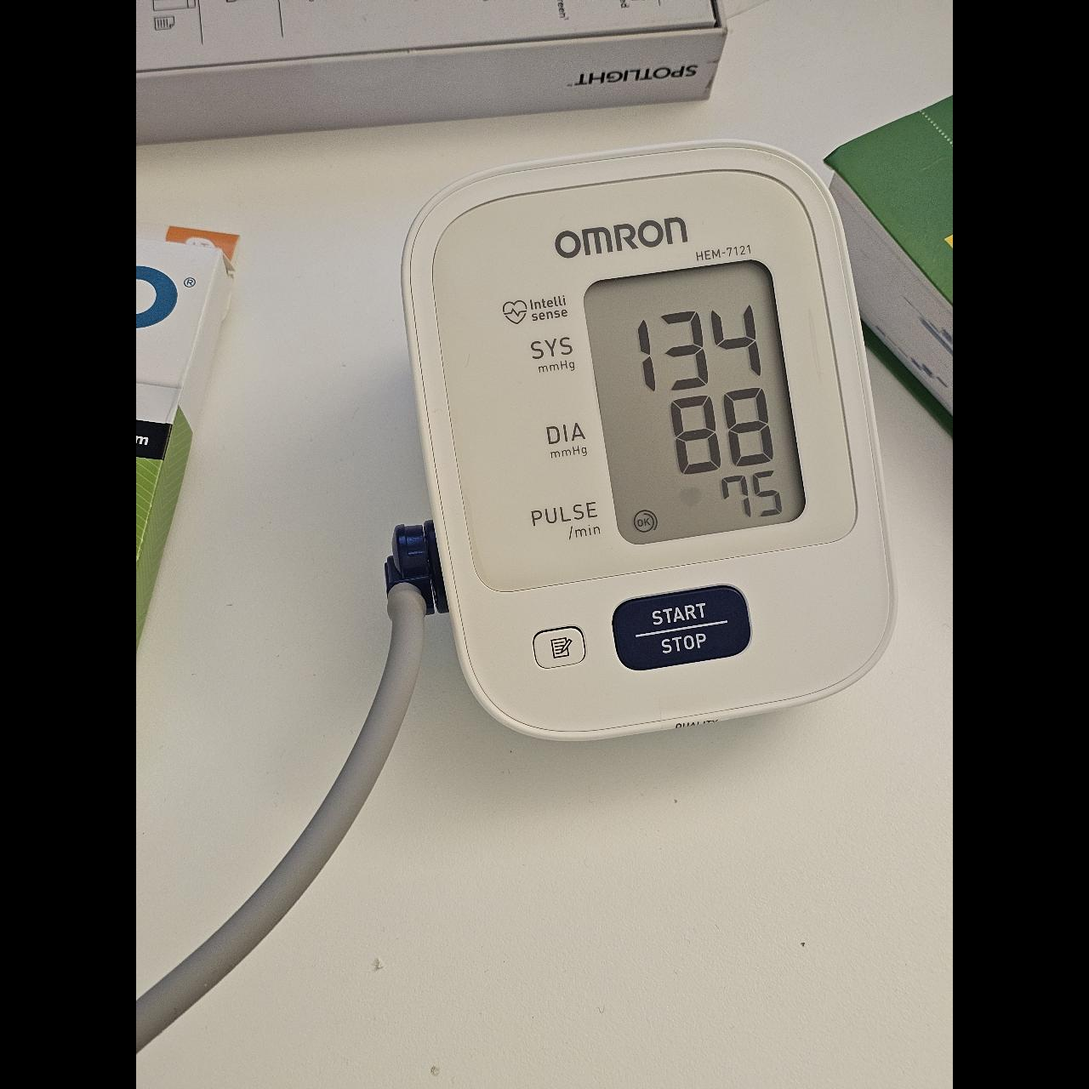lcd display: (582, 259, 810, 546)
